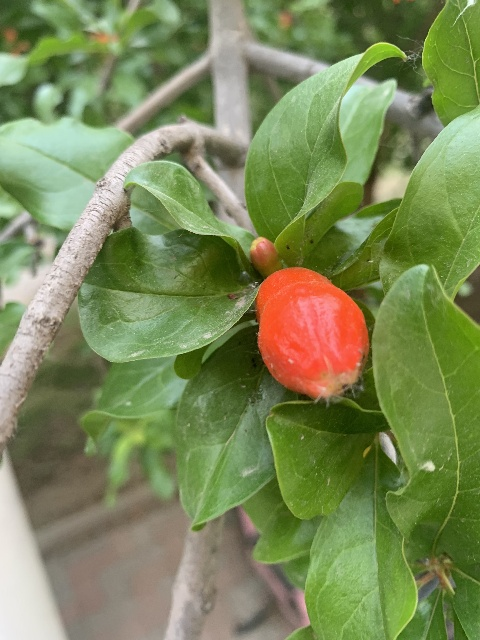bud: (254, 266, 369, 399), (249, 236, 280, 276)
